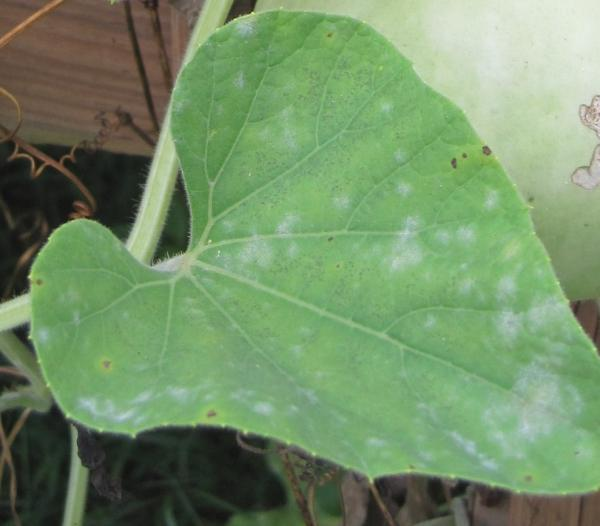Squash Powdery mildew leaf: (22, 8, 600, 503)
